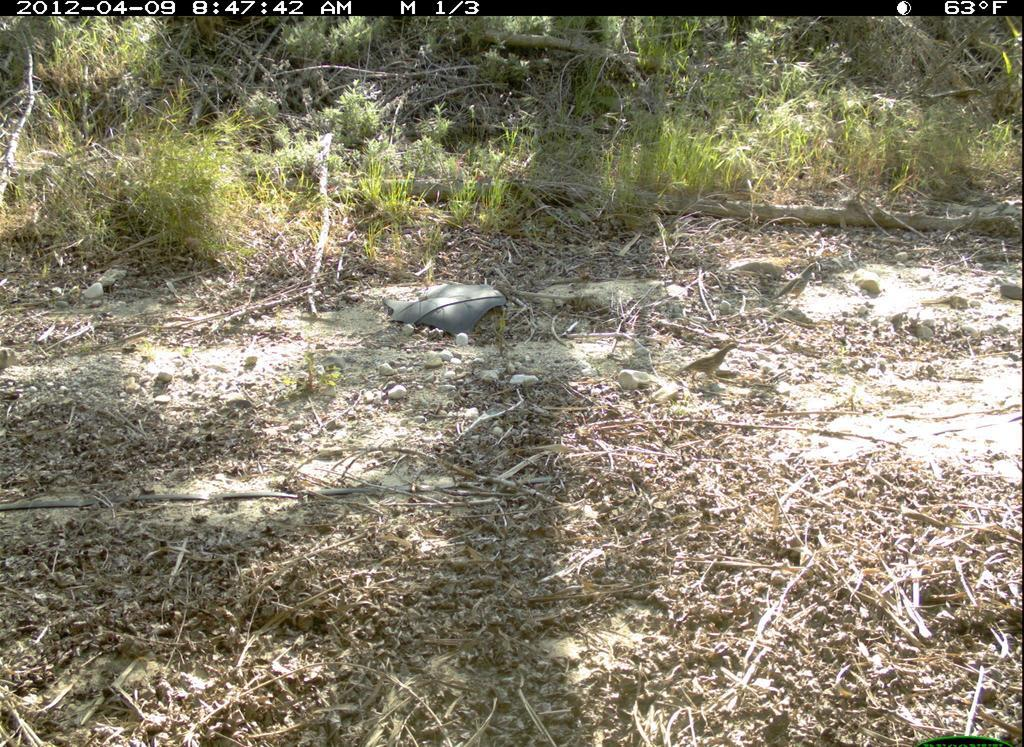bird: (671, 338, 742, 388), (774, 262, 823, 306)
